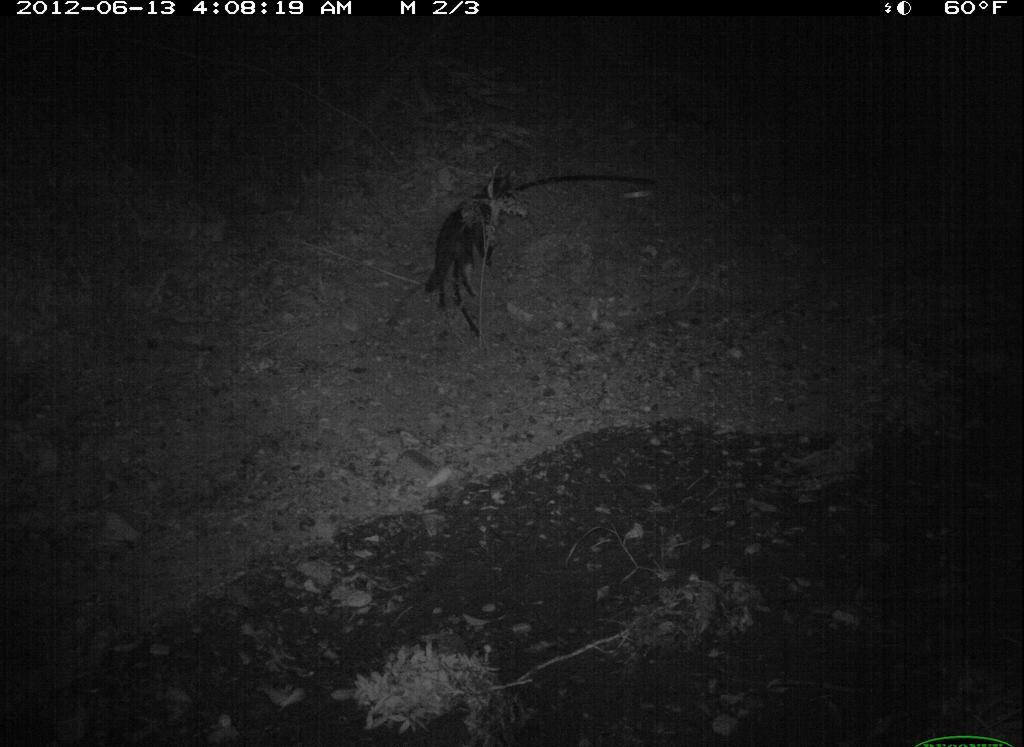cat: (427, 171, 520, 319)
